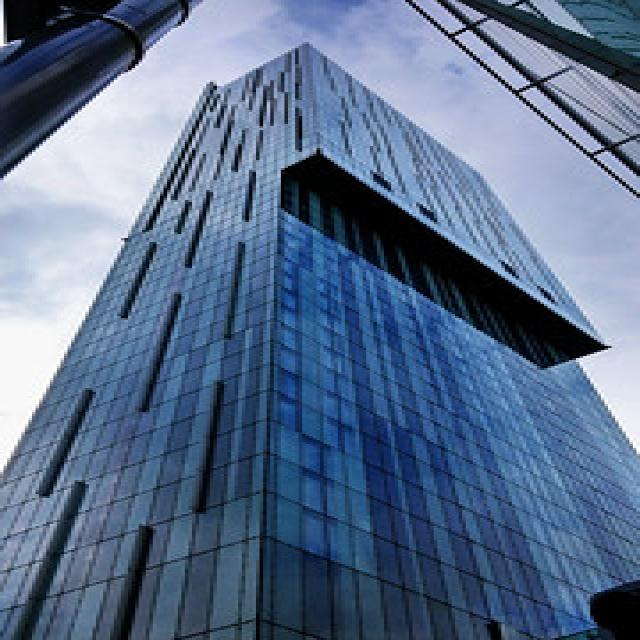building: (18, 38, 640, 640)
